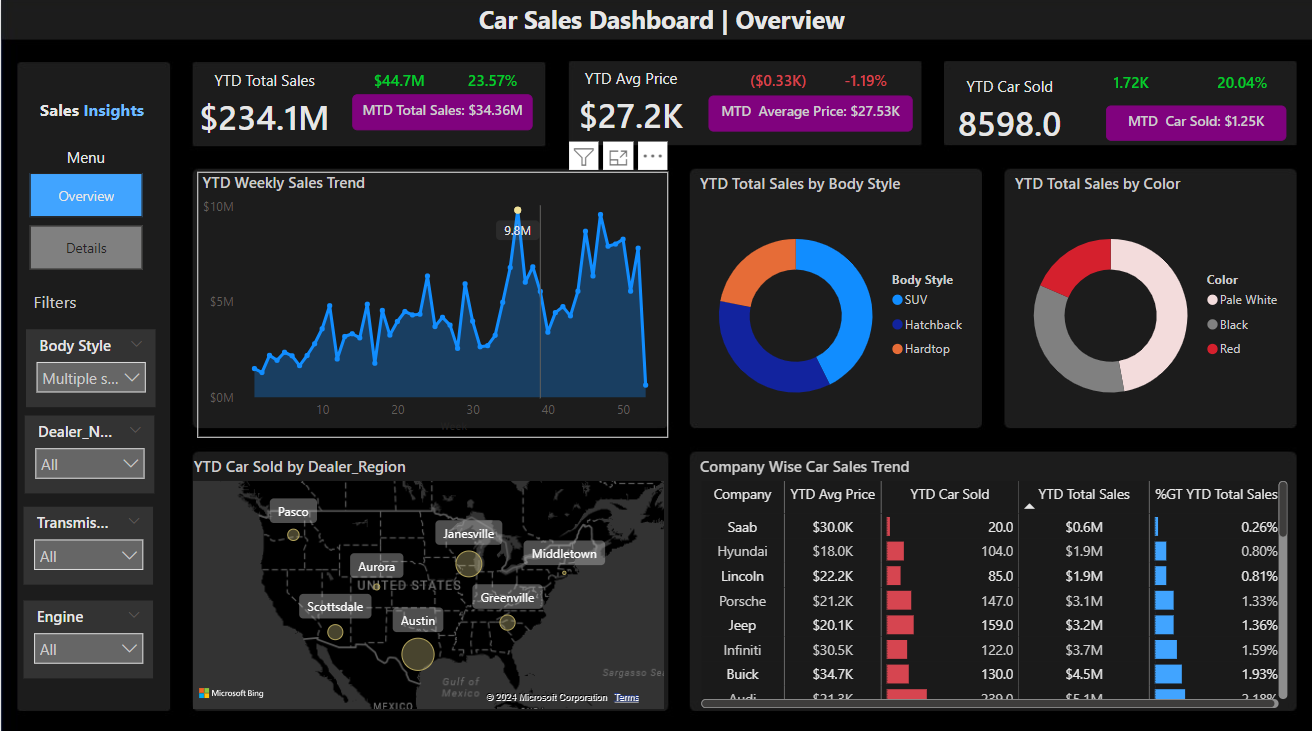

The page's visual inventory and layout, read from the dashboard file:
{"tool":"powerbi","page":{"name":"Overview","canvas":[1280,720],"ordinal":0},"visuals":[{"type":"card","title":"YTD Total Sales","fields":{"Values":["car_data.YTD Total Sales"]},"box":[182,69,151,73],"z":0},{"type":"card","fields":{"Values":["car_data.Sales Difference"]},"box":[346,68,85,26],"z":1000},{"type":"card","fields":{"Values":["car_data.YoY sales Growth"]},"box":[442,68,77,26],"z":2000},{"type":"card","fields":{"Values":["car_data.MTD KPI"]},"box":[343,94,176,35],"z":3000},{"type":"card","title":"YTD Avg Price","fields":{"Values":["car_data.YTD Avg Price"]},"box":[538.5,67.9,151.3,73.1],"z":4000},{"type":"card","fields":{"Values":["car_data.Avg Price Diff"]},"box":[716,68,85,26],"z":5000},{"type":"card","fields":{"Values":["car_data.YoY Avg Price Growth"]},"box":[801,68,85,26],"z":6000},{"type":"card","fields":{"Values":["car_data.MTD Avg Price KPI"]},"box":[690.6,95.3,198.8,35.3],"z":7000},{"type":"card","title":"YTD Car Sold","fields":{"Values":["car_data.YTD Car Sold"]},"box":[909,75.6,151.3,73.1],"z":8000},{"type":"card","fields":{"Values":["car_data.Car Sold Diff"]},"box":[1060.3,69.2,85.9,25.6],"z":9000},{"type":"card","fields":{"Values":["car_data.YoY Car Sold Growth"]},"box":[1167.9,69.2,85.9,25.6],"z":10000},{"type":"card","fields":{"Values":["car_data.MTD Car Sold KPI"]},"box":[1078.2,105.1,175.6,34.6],"z":11000},{"type":"areaChart","title":"YTD Weekly Sales Trend","fields":{"Category":["Calender Table.Week"],"Y":["Sum(car_data.Price ($))","car_data.Max Point Area Chart"]},"box":[191.8,169.4,460,260],"z":12000},{"type":"donutChart","fields":{"Category":["car_data.Body Style"],"Y":["car_data.YTD Total Sales"]},"box":[676.5,170.6,275.3,258.8],"z":13000},{"type":"donutChart","fields":{"Y":["car_data.YTD Total Sales"],"Category":["car_data.Color"]},"box":[984.7,170.6,275.3,258.8],"z":14000},{"type":"map","fields":{"Category":["car_data.Dealer_Region"],"Size":["car_data.YTD Car Sold"]},"box":[182.4,445.9,469.4,251.8],"z":15000},{"type":"tableEx","title":"Company Wise Car Sales Trend","fields":{"Values":["car_data.Company","car_data.YTD Avg Price","car_data.YTD Car Sold","car_data.YTD Total Sales","Divide(car_data.YTD Total Sales, ScopedEval(car_data.YTD Total Sales, []))"]},"box":[676.5,445.9,583.5,251.8],"z":16000},{"type":"textbox","box":[461.4,0,381.9,45.8],"z":17000},{"type":"slicer","fields":{"Values":["car_data.Body Style"]},"box":[24.1,322.9,126.5,75.9],"z":18000},{"type":"slicer","fields":{"Values":["car_data.Dealer_Name"]},"box":[22.9,407.2,126.5,75.9],"z":19000},{"type":"slicer","fields":{"Values":["car_data.Transmission"]},"box":[21.7,496.4,126.5,75.9],"z":20000},{"type":"slicer","fields":{"Values":["car_data.Engine"]},"box":[21.7,588,126.5,75.9],"z":21000},{"type":"textbox","box":[21.7,280.7,61.4,37.3],"z":22000},{"type":"textbox","box":[26.5,92.8,124.1,37.3],"z":23000},{"type":"textbox","box":[24.1,139.8,116.9,37.3],"z":24000},{"type":"pageNavigator","box":[27.7,171.1,110.8,95.2],"z":25000}]}

Visuals, with their boxes on the page's 1280x720 design canvas (x1, y1, x2, y2). These are canvas units, not pixel positions in the 1312x731 screenshot, which may show the page scaled, cropped or inside an application window:
"YTD Total Sales" card: {"x1": 182, "y1": 69, "x2": 333, "y2": 142}
card - car_data.Sales Difference: {"x1": 346, "y1": 68, "x2": 431, "y2": 94}
card - car_data.YoY sales Growth: {"x1": 442, "y1": 68, "x2": 519, "y2": 94}
card - car_data.MTD KPI: {"x1": 343, "y1": 94, "x2": 519, "y2": 129}
"YTD Avg Price" card: {"x1": 538, "y1": 68, "x2": 690, "y2": 141}
card - car_data.Avg Price Diff: {"x1": 716, "y1": 68, "x2": 801, "y2": 94}
card - car_data.YoY Avg Price Growth: {"x1": 801, "y1": 68, "x2": 886, "y2": 94}
card - car_data.MTD Avg Price KPI: {"x1": 691, "y1": 95, "x2": 889, "y2": 131}
"YTD Car Sold" card: {"x1": 909, "y1": 76, "x2": 1060, "y2": 149}
card - car_data.Car Sold Diff: {"x1": 1060, "y1": 69, "x2": 1146, "y2": 95}
card - car_data.YoY Car Sold Growth: {"x1": 1168, "y1": 69, "x2": 1254, "y2": 95}
card - car_data.MTD Car Sold KPI: {"x1": 1078, "y1": 105, "x2": 1254, "y2": 140}
"YTD Weekly Sales Trend" areaChart: {"x1": 192, "y1": 169, "x2": 652, "y2": 429}
donutChart - car_data.Body Style x car_data.YTD Total Sales: {"x1": 676, "y1": 171, "x2": 952, "y2": 429}
donutChart - car_data.YTD Total Sales x car_data.Color: {"x1": 985, "y1": 171, "x2": 1260, "y2": 429}
map - car_data.Dealer_Region x car_data.YTD Car Sold: {"x1": 182, "y1": 446, "x2": 652, "y2": 698}
"Company Wise Car Sales Trend" tableEx: {"x1": 676, "y1": 446, "x2": 1260, "y2": 698}
textbox: {"x1": 461, "y1": 0, "x2": 843, "y2": 46}
slicer - car_data.Body Style: {"x1": 24, "y1": 323, "x2": 151, "y2": 399}
slicer - car_data.Dealer_Name: {"x1": 23, "y1": 407, "x2": 149, "y2": 483}
slicer - car_data.Transmission: {"x1": 22, "y1": 496, "x2": 148, "y2": 572}
slicer - car_data.Engine: {"x1": 22, "y1": 588, "x2": 148, "y2": 664}
textbox: {"x1": 22, "y1": 281, "x2": 83, "y2": 318}
textbox: {"x1": 26, "y1": 93, "x2": 151, "y2": 130}
textbox: {"x1": 24, "y1": 140, "x2": 141, "y2": 177}
pageNavigator: {"x1": 28, "y1": 171, "x2": 138, "y2": 266}
